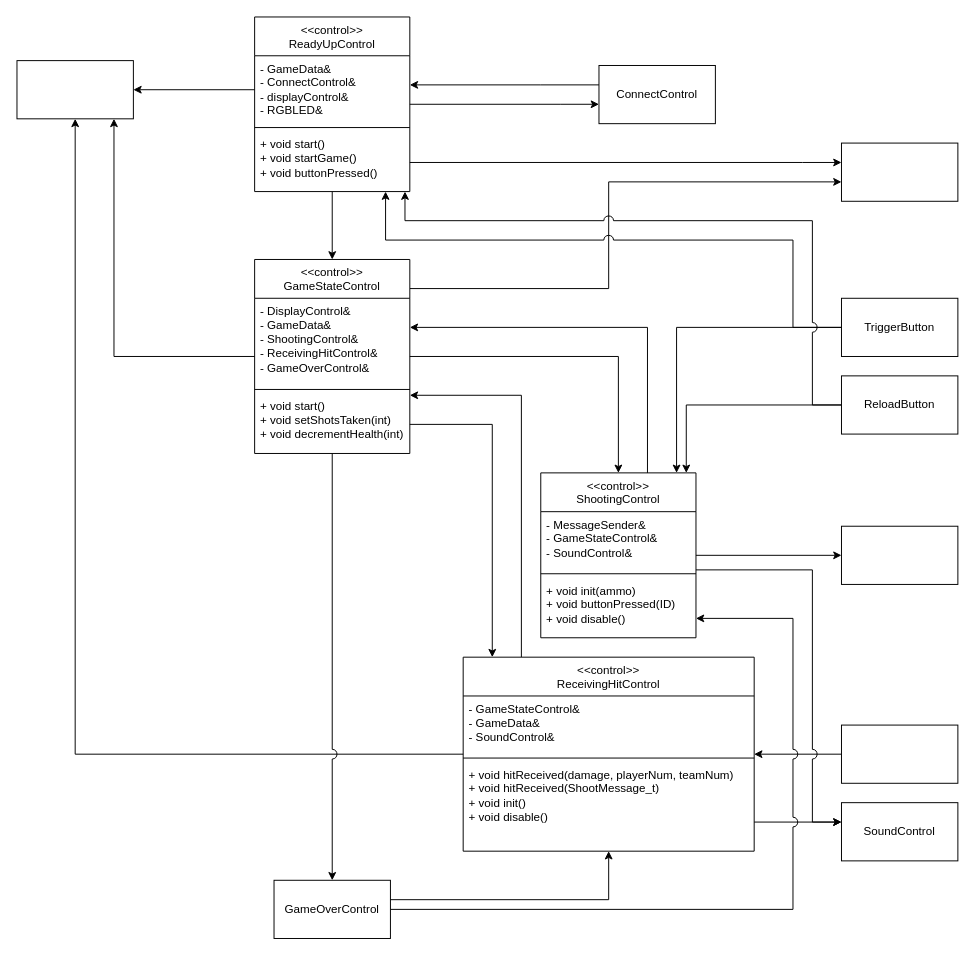
The diagram is 975 pixels wide and 955 high, and some of its shapes have lost their labels. The centre of each missing label's shape, as x and y in pixels:
<<entity>> GameData: point (74, 89)
DisplayControl: point (899, 171)
MessageReceiver: point (899, 753)
MessageSender: point (899, 554)
